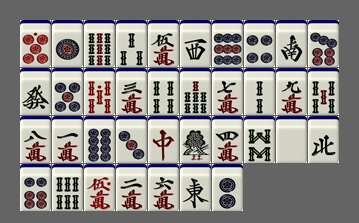0m: (84, 164, 115, 211)
0p: (20, 20, 51, 67)
0s: (84, 68, 115, 115)
1m: (52, 116, 83, 163)
1p: (52, 20, 83, 67)
1s: (180, 116, 211, 163)
1z: (180, 164, 211, 211)
2m: (116, 164, 147, 211)
2p: (212, 164, 243, 211)
2s: (244, 68, 275, 115)
2z: (276, 20, 307, 67)
3m: (116, 68, 147, 115)
3p: (116, 116, 147, 163)
3s: (116, 20, 147, 67)
3z: (180, 20, 211, 67)
4m: (212, 116, 243, 163)
4p: (244, 20, 275, 67)
4s: (148, 68, 179, 115)
4z: (308, 116, 339, 163)
5m: (148, 20, 179, 67)
5p: (52, 68, 83, 115)
5s: (308, 68, 339, 115)
5z: (276, 116, 307, 163)
6m: (148, 164, 179, 211)
6p: (20, 164, 51, 211)
6s: (52, 164, 83, 211)
6z: (20, 68, 51, 115)
7m: (212, 68, 243, 115)
7p: (308, 20, 339, 67)
7s: (180, 68, 211, 115)
7z: (148, 116, 179, 163)
8m: (20, 116, 51, 163)
8p: (84, 116, 115, 163)
8s: (244, 116, 275, 163)
9m: (276, 68, 307, 115)
9p: (212, 20, 243, 67)
9s: (84, 20, 115, 67)
